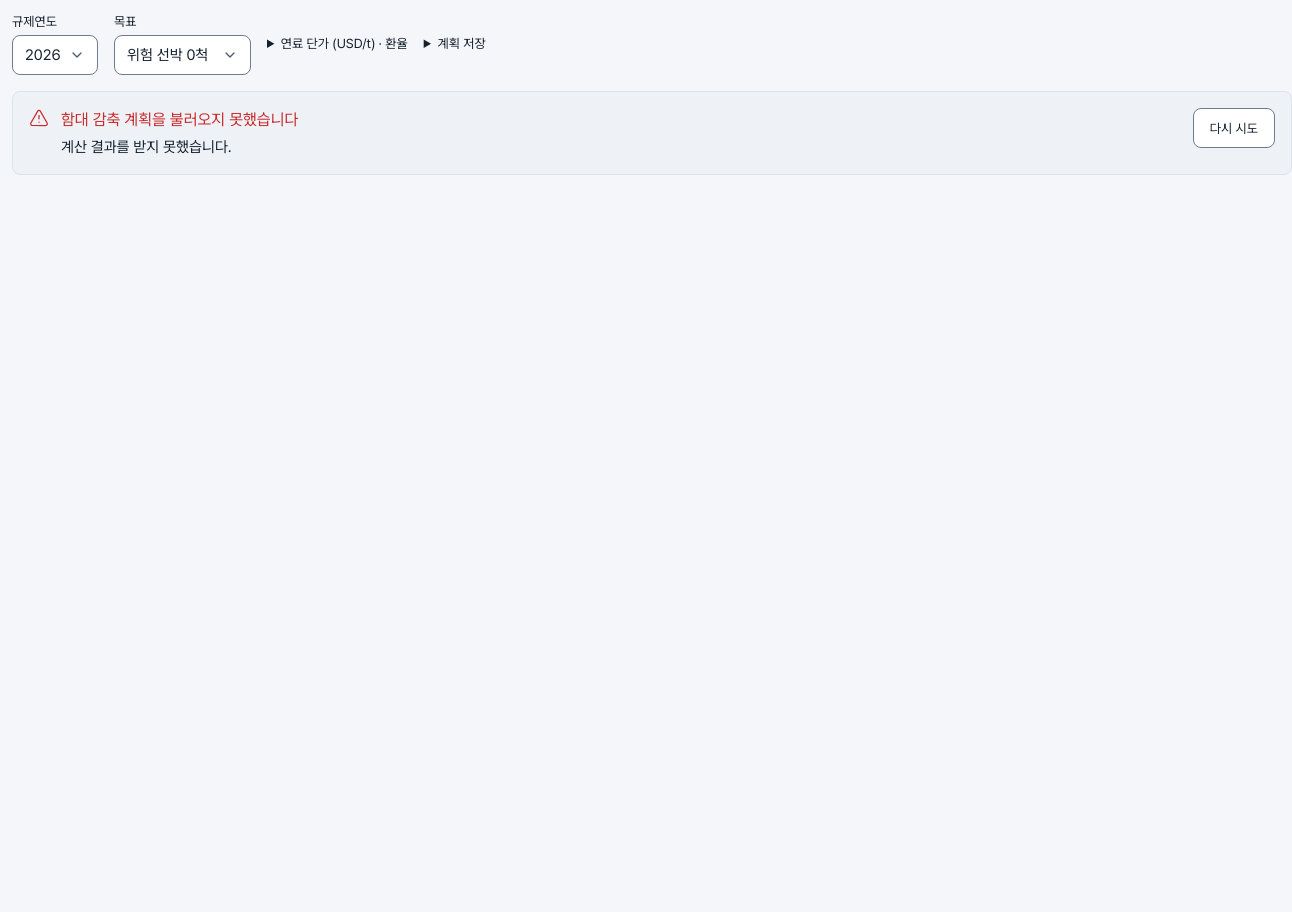
Test case: 함대 감축 계획 화면 — 실패해도 빠져나올 수 있다 (#1069) › 처음부터 실패하면 오류와 재시도만 — 대체 문구는 진행 문구가 아니라 실패 문구다
expect the text "계산 결과를 받지 못했습니다." is shown: met, box left=61, top=138, right=232, bottom=156
Click the button "다시 시도" at (1234, 128), box left=1193, top=108, right=1275, bottom=148
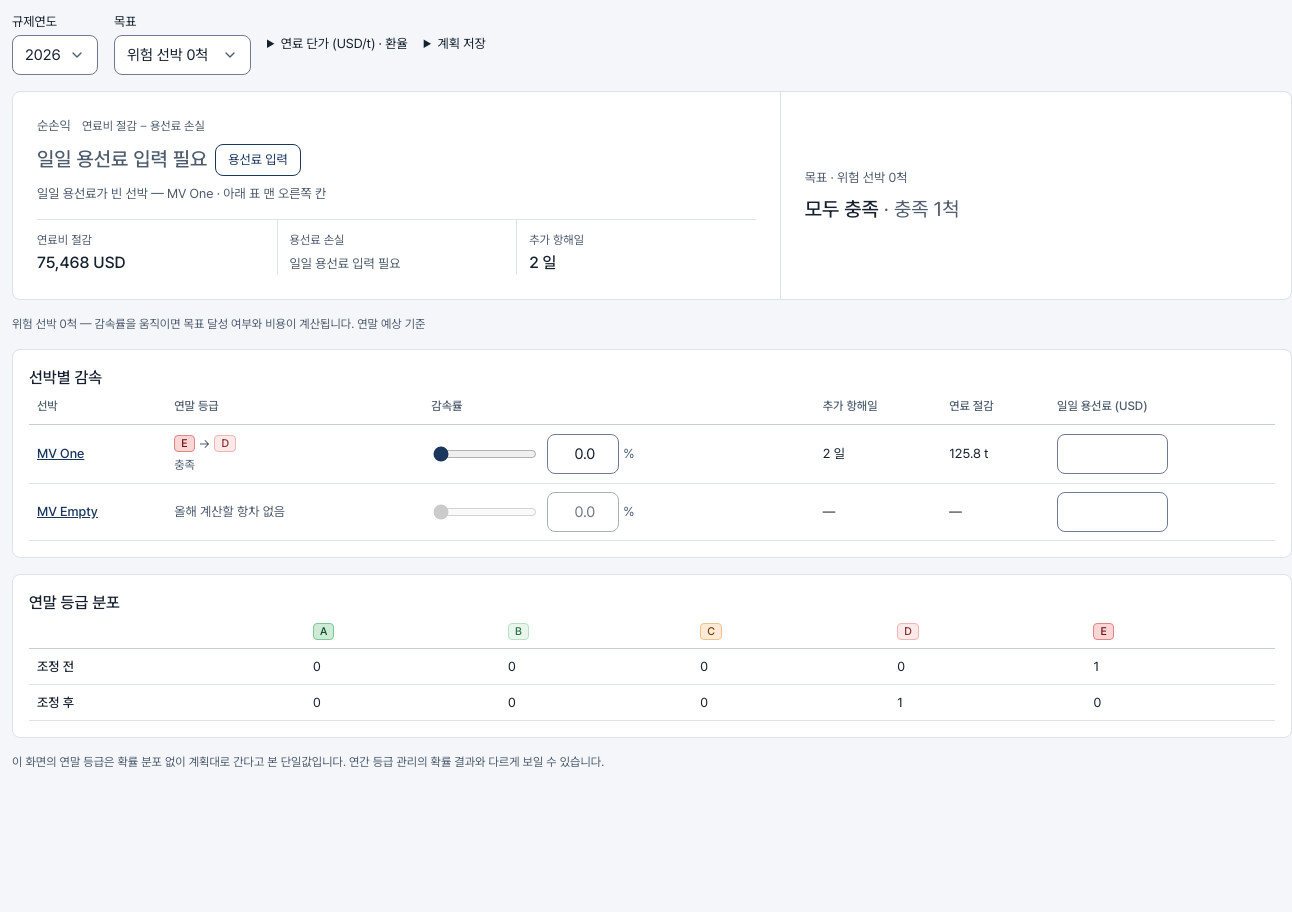
expect the link "MV One" is shown: met, box left=37, top=446, right=84, bottom=461
